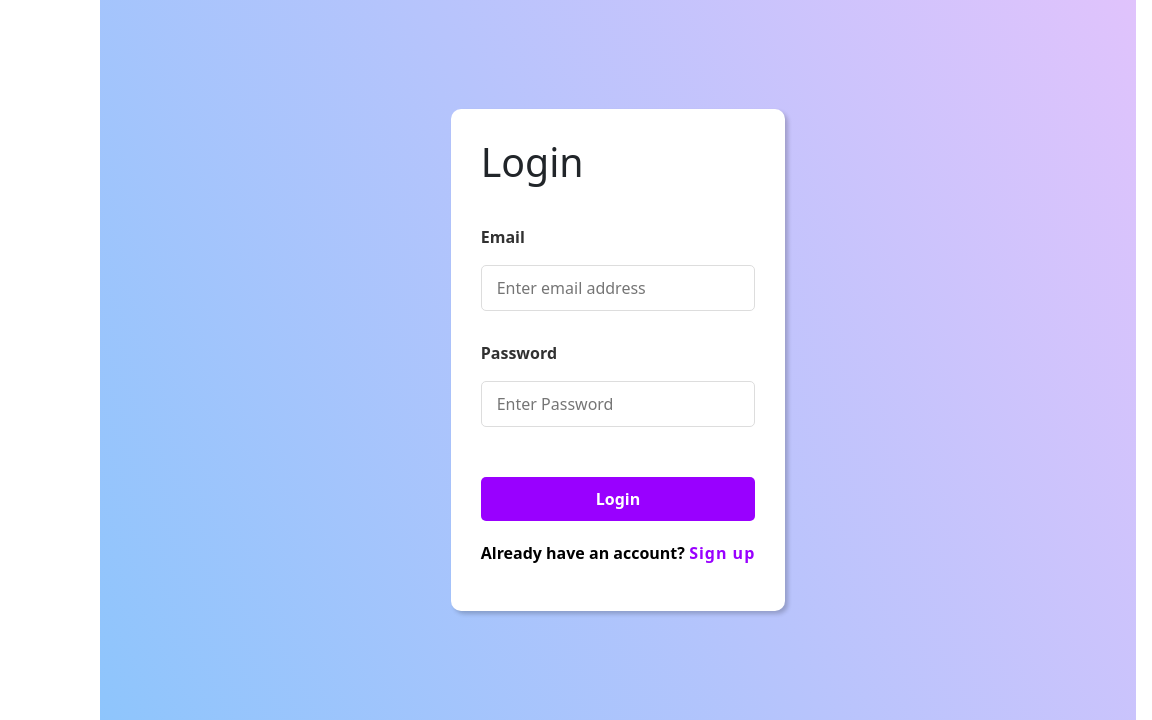
Scenario: validation error should be, when clicked submit and the input was empty
The width and height of the screenshot is (1152, 720).
Click the button with test id "login-button" at (618, 499), box [481, 477, 755, 521]
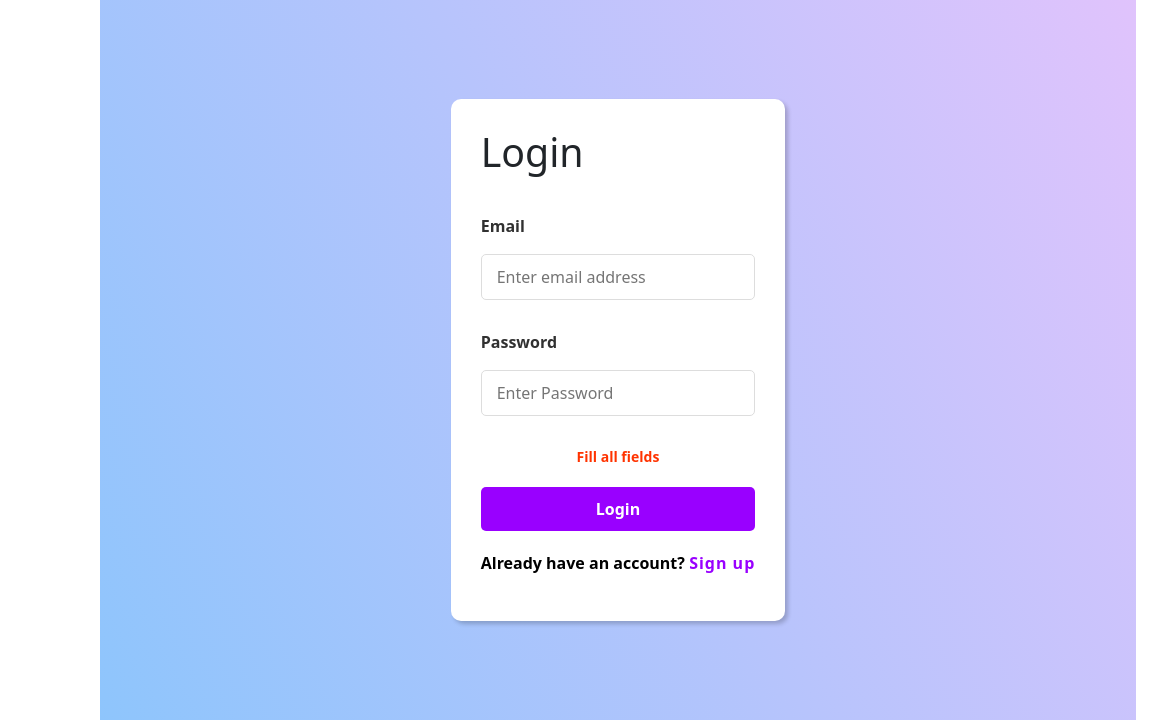
Now the text "Fill all fields" is shown, box [577, 447, 659, 466]
